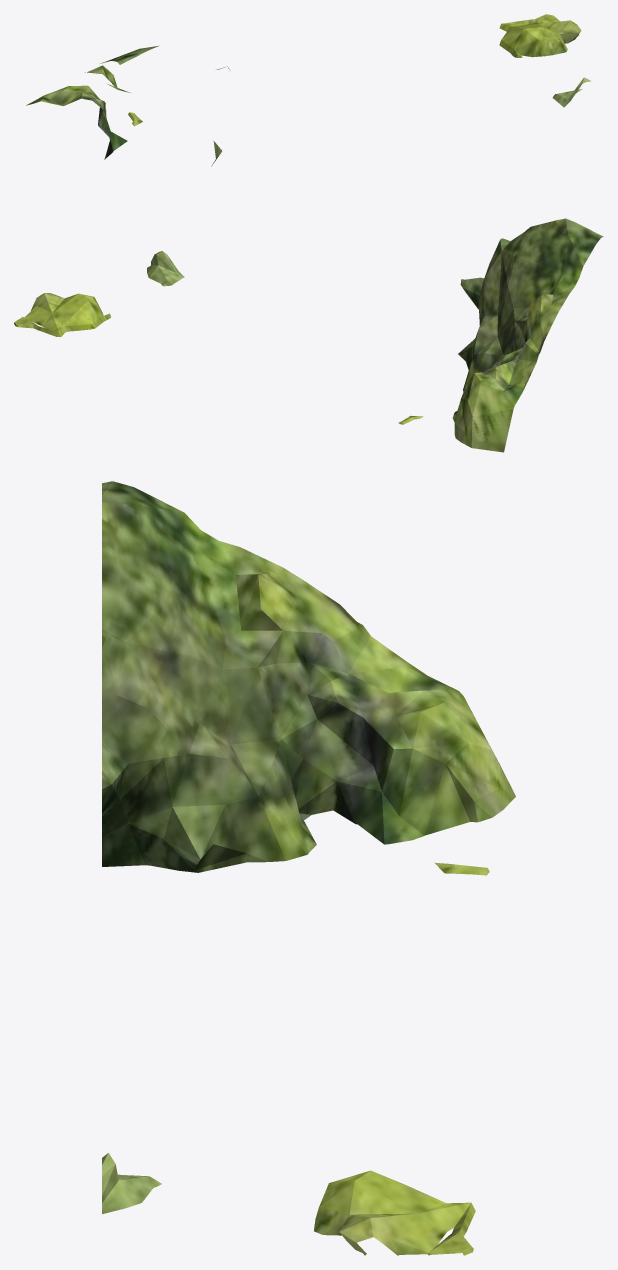
3 renders of one model, top to bottom at view 1: azimuth 30°, elevation 25°; view 2: azimuth 150°, elevation 25°; view 3: azimuth 270°, elevation 25°, orthographic. The views are drawn at different scales.
Size of the model in its own units: 26.11 by 7.57 by 9.38.
1 material, 1 textured.
